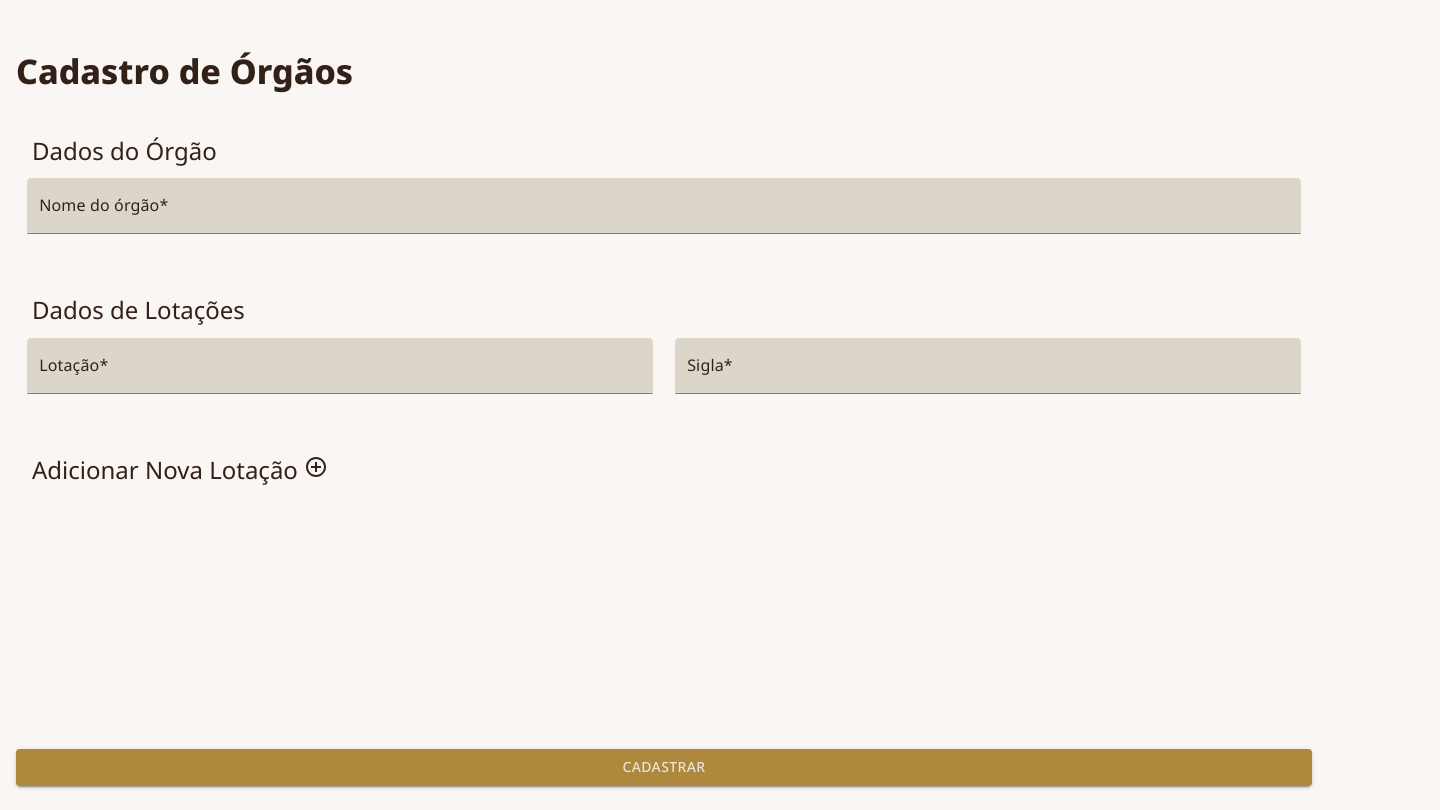
Scenario: OrganCreate Component › validates form correctly before submiting with non required fields
Type "Órgão-Teste" into the field labelled "Nome do órgão*" at {"x": 664, "y": 206}, box [27, 178, 1301, 234]
Type "Lot-teste" into the field labelled "Lotação*" at {"x": 340, "y": 366}, box [27, 338, 653, 394]
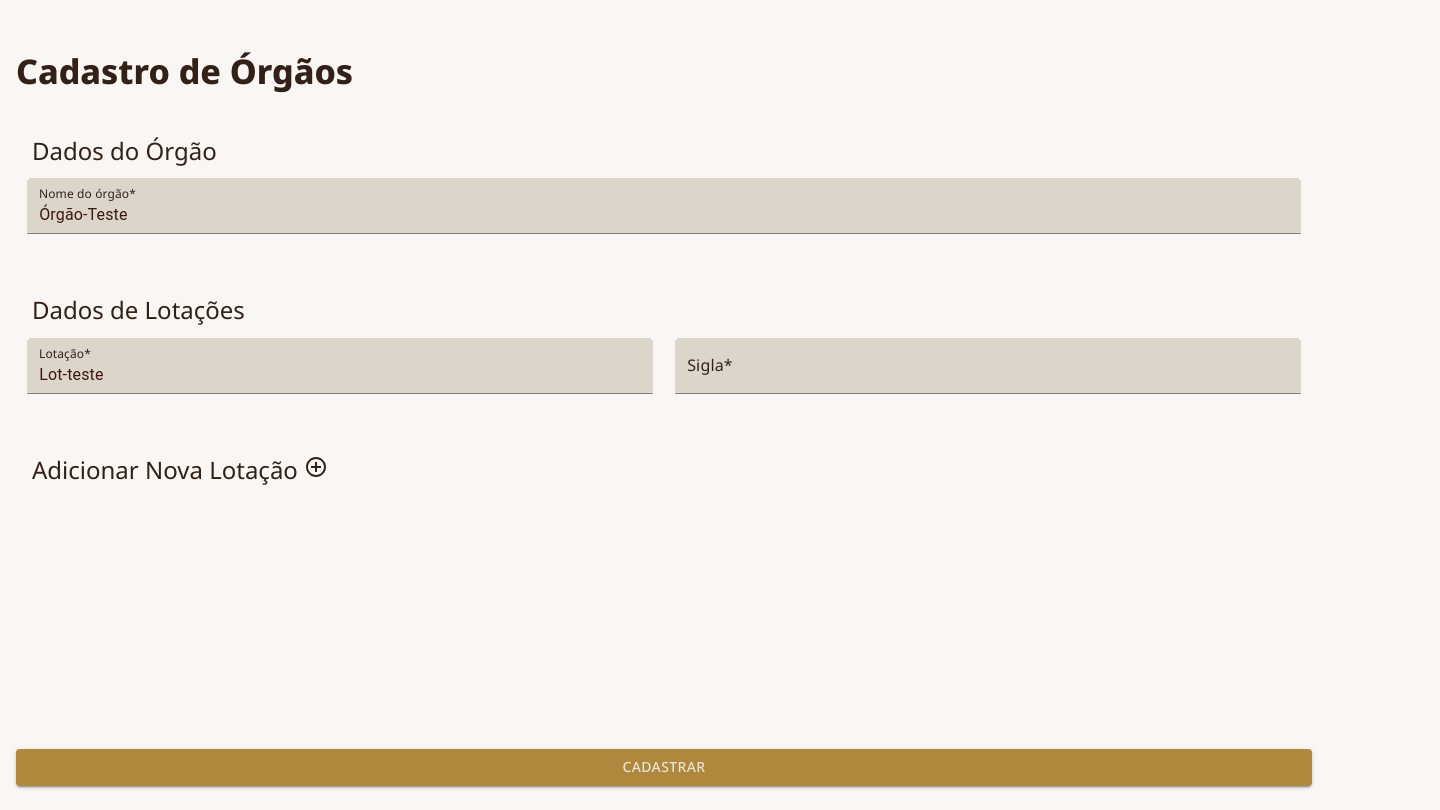
Type "Sigla-Teste" into the field labelled "Sigla*" at {"x": 988, "y": 366}, box [675, 338, 1301, 394]
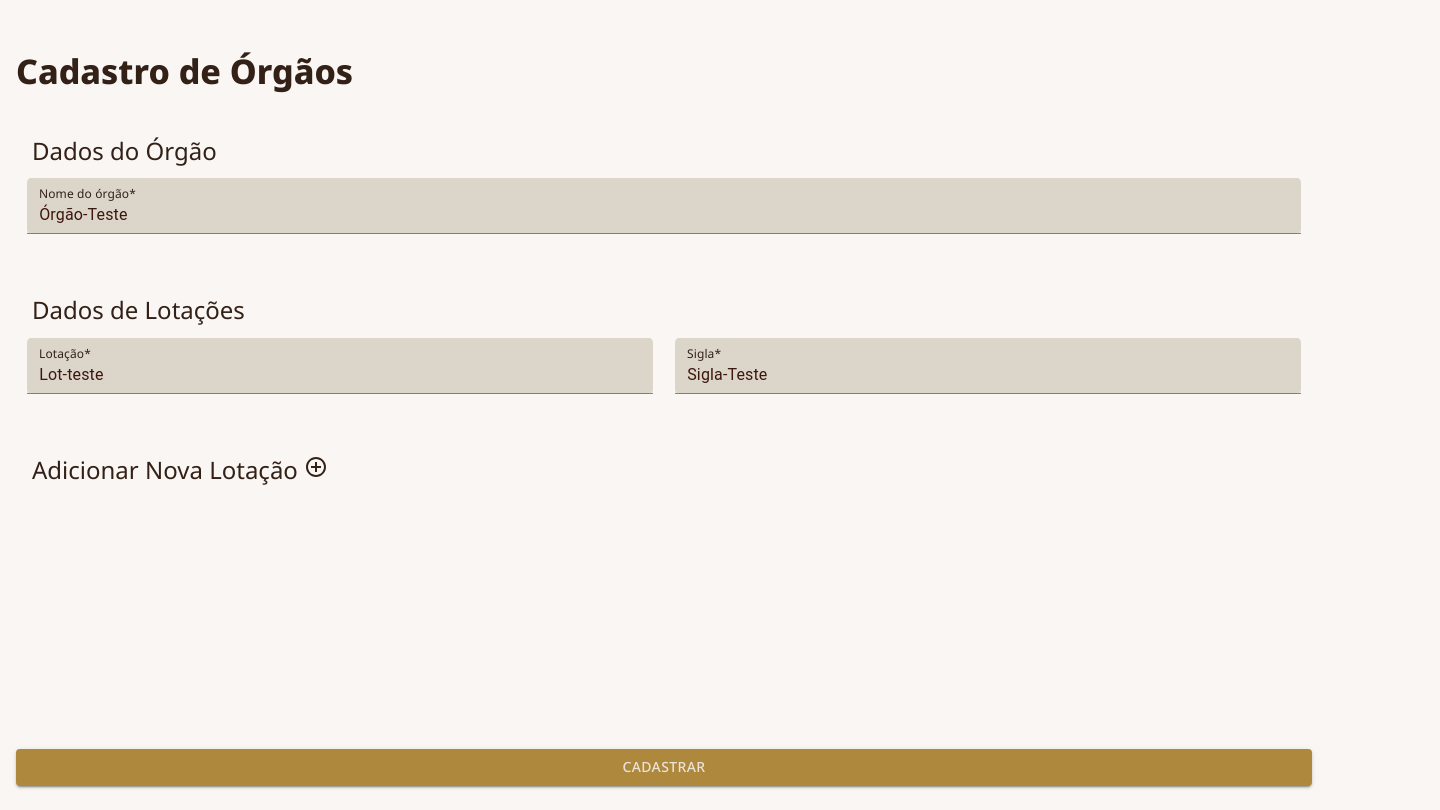
Click the icon with test id "AddCircleOutlineIcon" at {"x": 316, "y": 467}, box [304, 455, 328, 479]
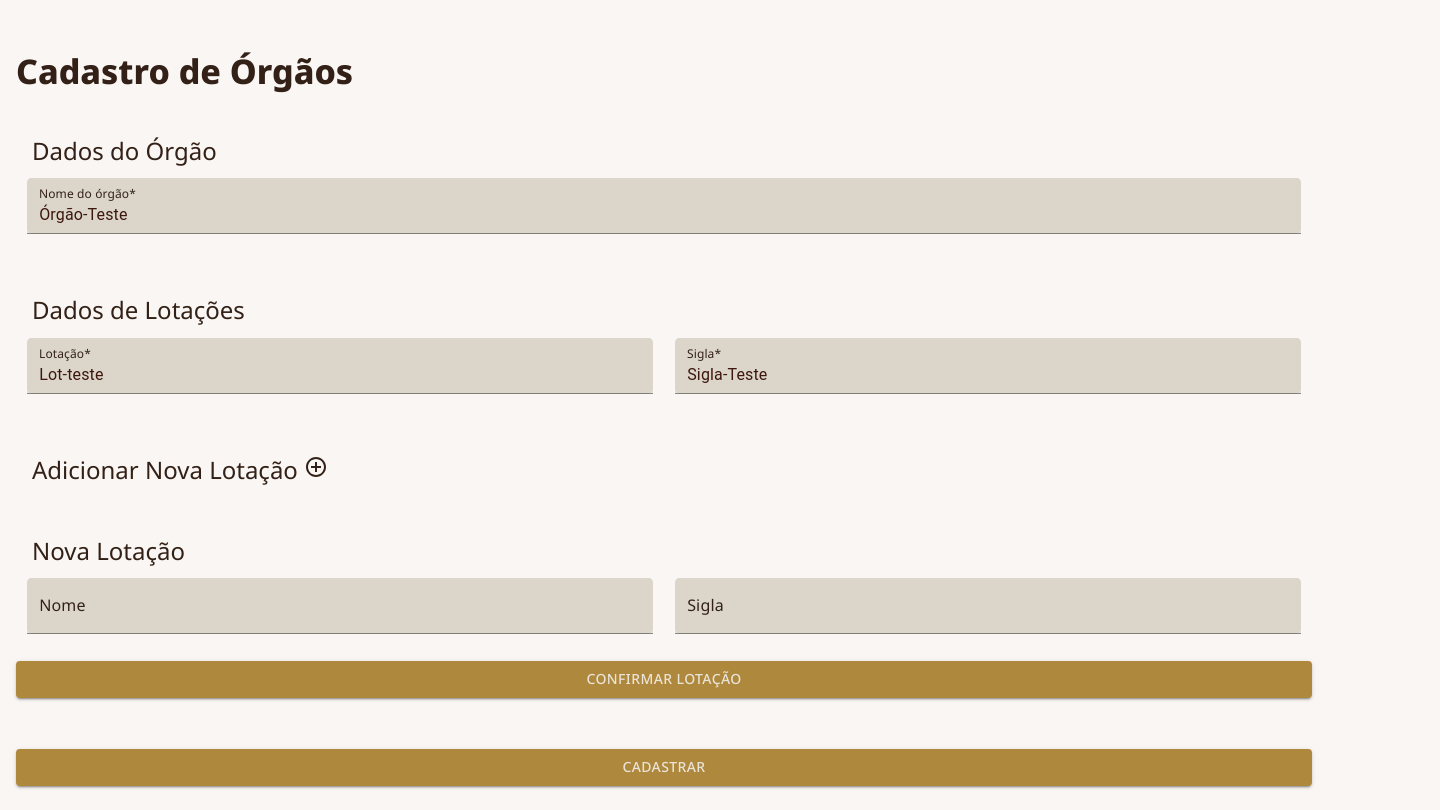
Expected: the field labelled "Nome" is shown
Expected: the field labelled "Sigla" is shown, [675, 578, 1301, 634]
Type "Nova Lotação" into the field labelled "Nome" at {"x": 340, "y": 606}, box [27, 578, 653, 634]
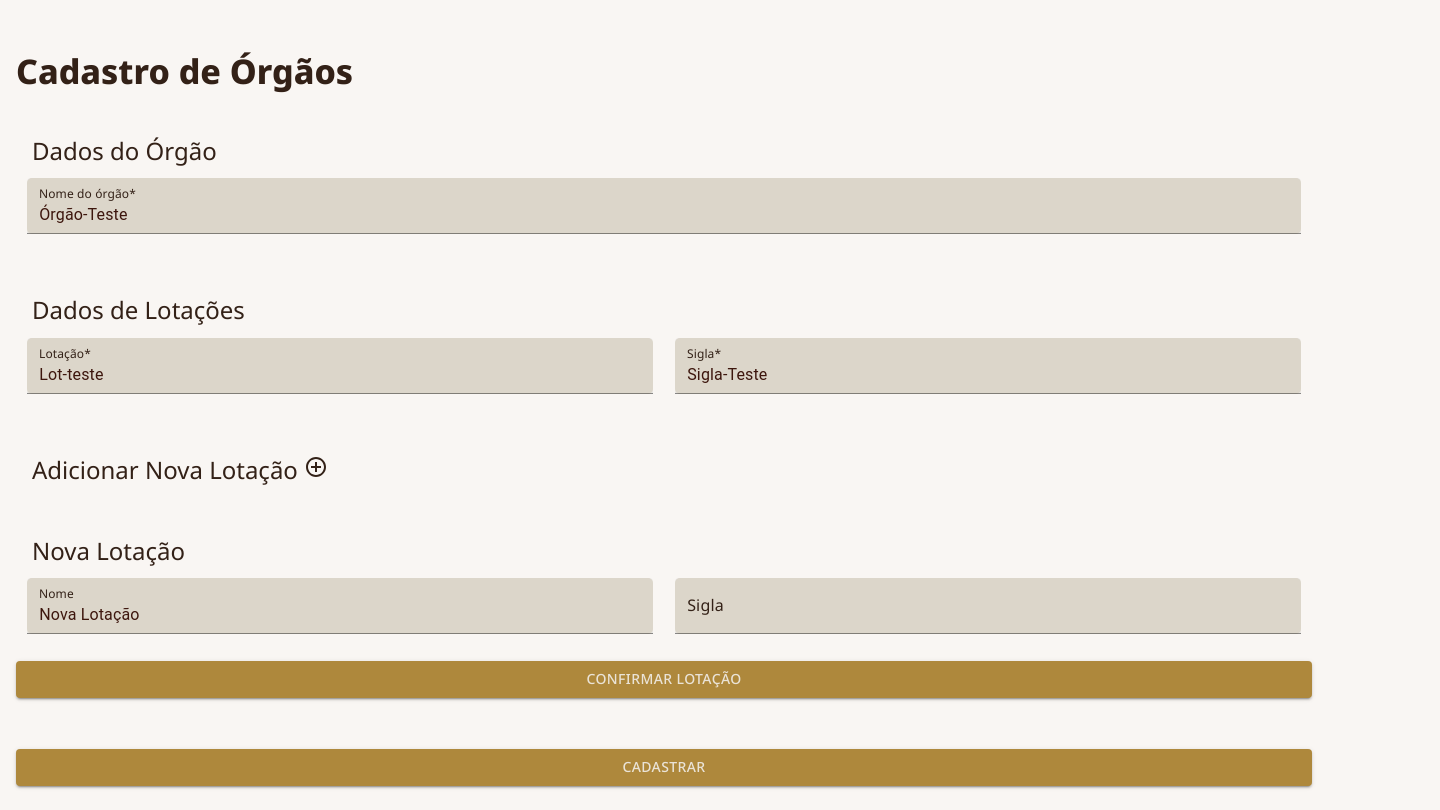
Type "NL" into the field labelled "Sigla" at {"x": 988, "y": 606}, box [675, 578, 1301, 634]
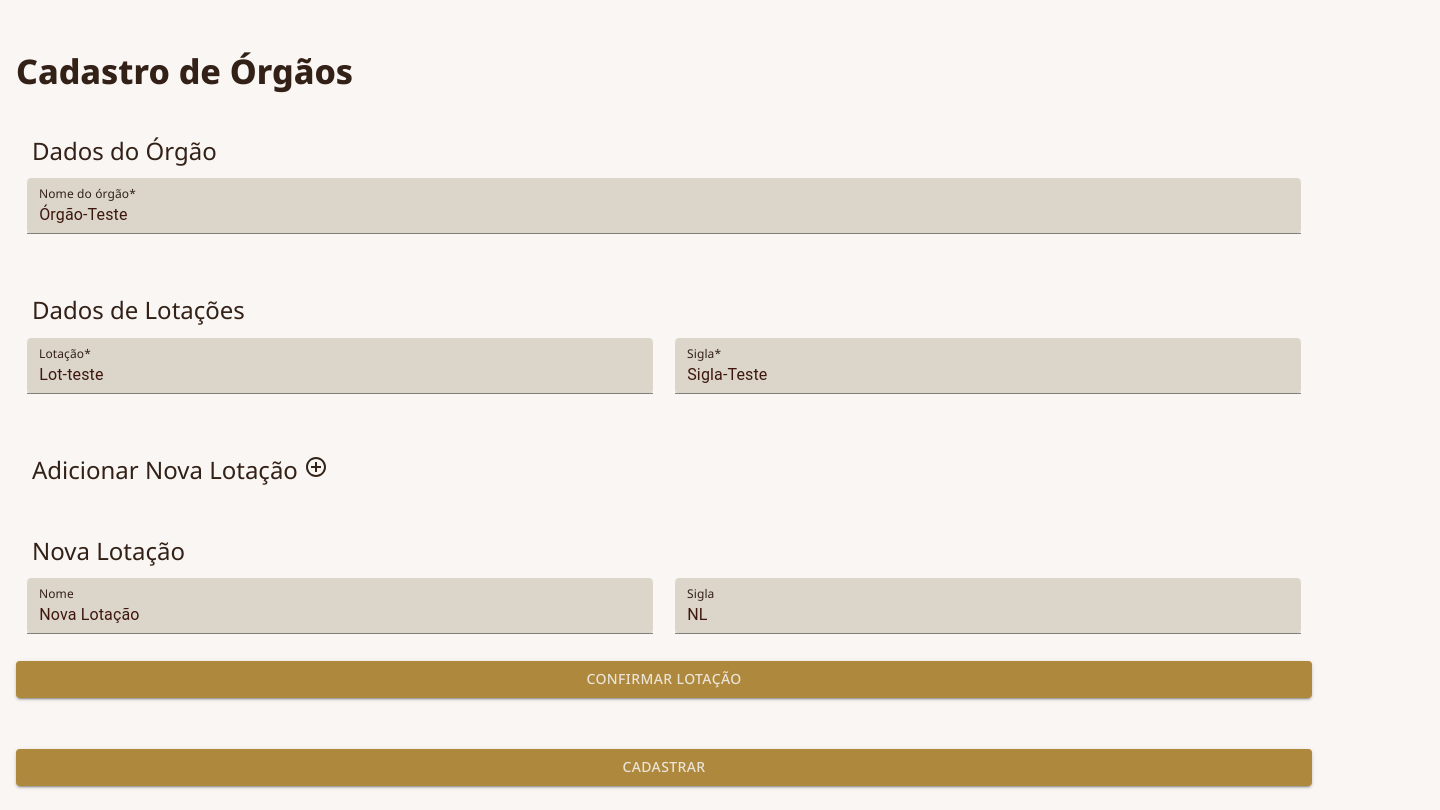
Click the button "Confirmar Lotação" at {"x": 664, "y": 679}, box [16, 661, 1312, 698]
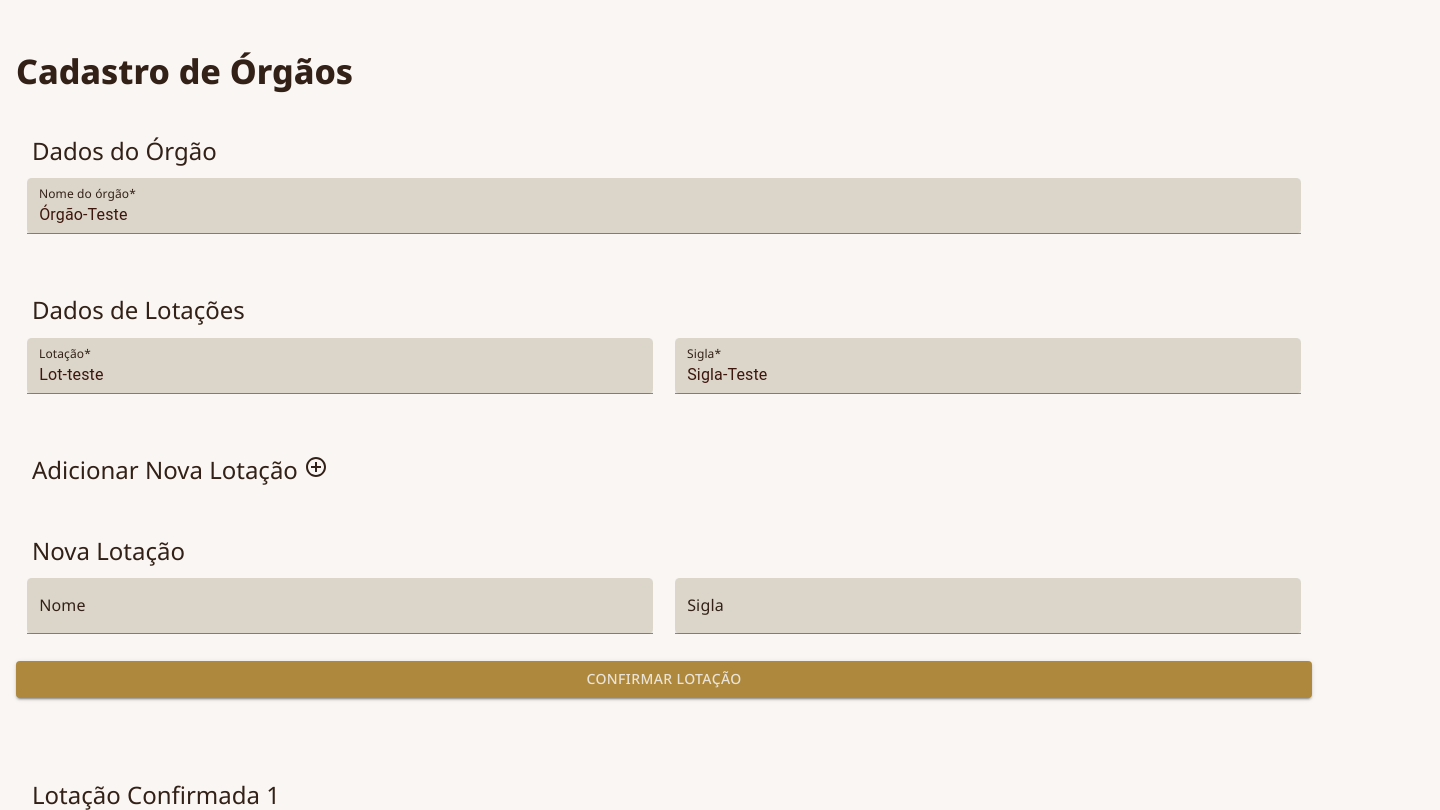
Expected: the heading "Lotação Confirmada 1" is shown, [32, 778, 280, 809]
